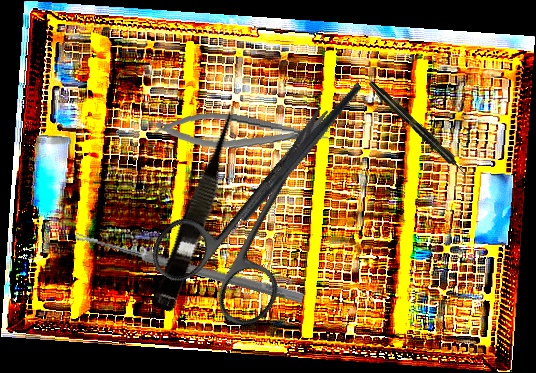Chopper: (183, 81, 402, 257)
Handpiece: (366, 78, 471, 180)
Iris Scissors: (142, 72, 383, 337)
Micro Scissor: (150, 103, 250, 315)
Needle Holder: (153, 107, 331, 158)
Surgical Spoon: (73, 230, 305, 304)
